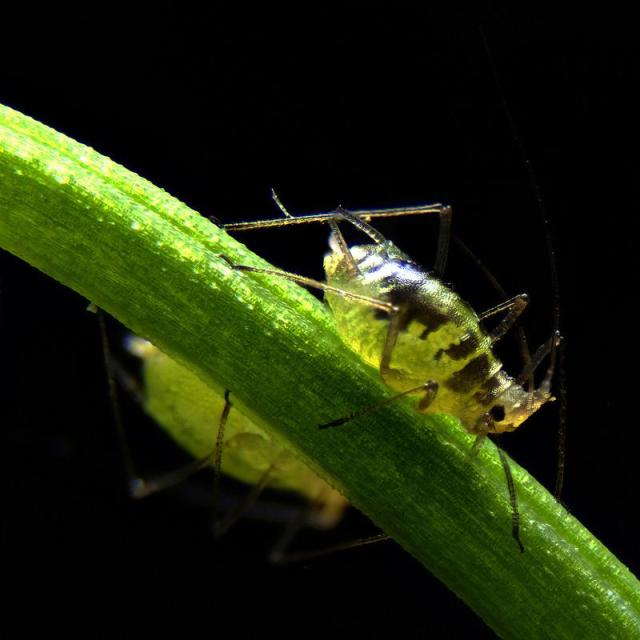Aphids: (281, 198, 606, 554)
